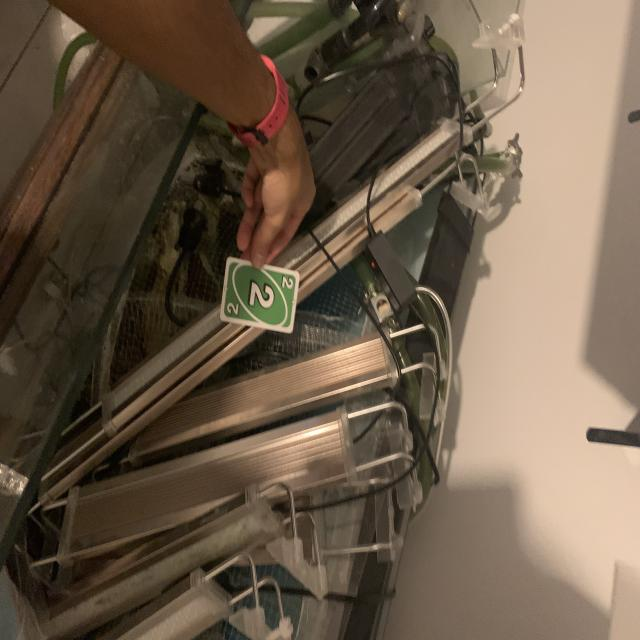lgreen-2: (278, 272, 296, 290)
